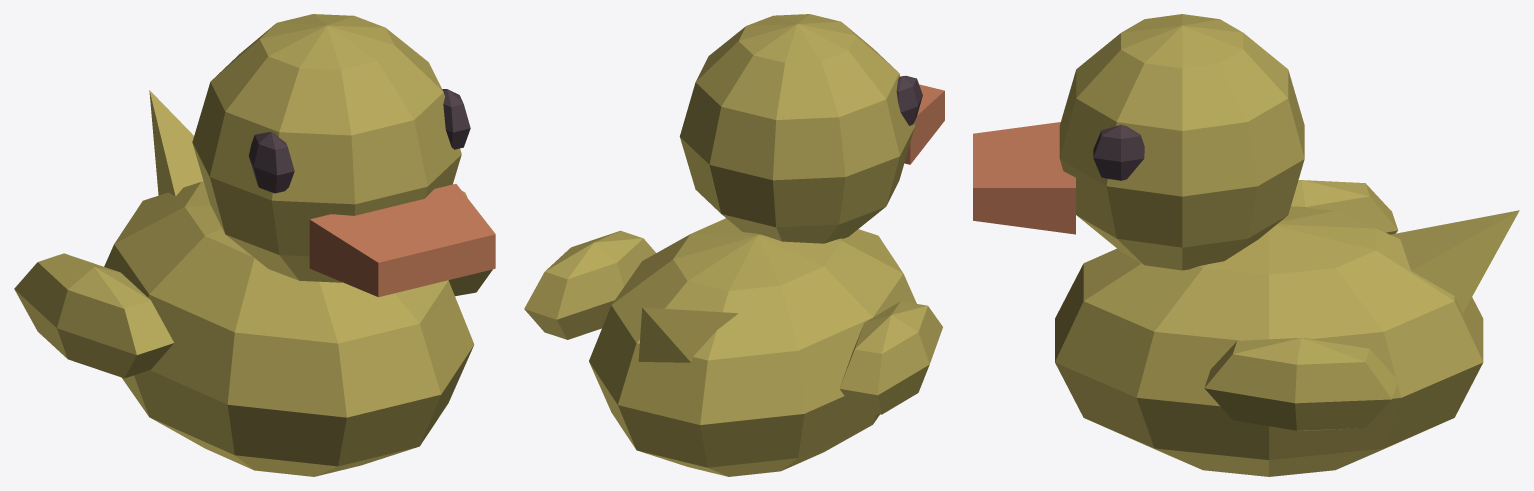
The model's file is duck.glb.
3 renders of one model, left to right at view 1: azimuth 30°, elevation 25°; view 2: azimuth 150°, elevation 25°; view 3: azimuth 270°, elevation 25°, orthographic. The views are drawn at different scales.
Visible parts, largest first — view 1: Body, Head, Beak, WingR, Tail, EyeR, EyeL, WingL; view 2: Body, Head, WingL, WingR, Tail, Beak, EyeR; view 3: Body, Head, WingL, Beak, Tail, WingR, EyeL.
Boxes of the visible parts, <box> form: Body: <box>104,181,474,476</box>; Head: <box>192,14,461,282</box>; Beak: <box>309,184,495,297</box>; WingR: <box>14,253,173,378</box>; Tail: <box>149,90,203,196</box>; EyeR: <box>248,132,294,193</box>; EyeL: <box>442,89,470,149</box>; WingL: <box>448,191,492,296</box>; Body: <box>589,218,916,476</box>; Head: <box>679,14,914,243</box>; WingL: <box>524,230,655,339</box>; WingR: <box>839,301,942,414</box>; Tail: <box>638,307,738,362</box>; Beak: <box>904,84,944,164</box>; EyeR: <box>896,75,922,125</box>; Body: <box>1055,206,1483,476</box>; Head: <box>1059,14,1304,270</box>; WingL: <box>1204,337,1398,430</box>; Beak: <box>973,122,1075,234</box>; Tail: <box>1390,210,1519,313</box>; WingR: <box>1291,180,1398,234</box>; EyeL: <box>1093,124,1144,180</box>.
Size of the model in its own units: 0.7186 by 0.74 by 0.8496.
